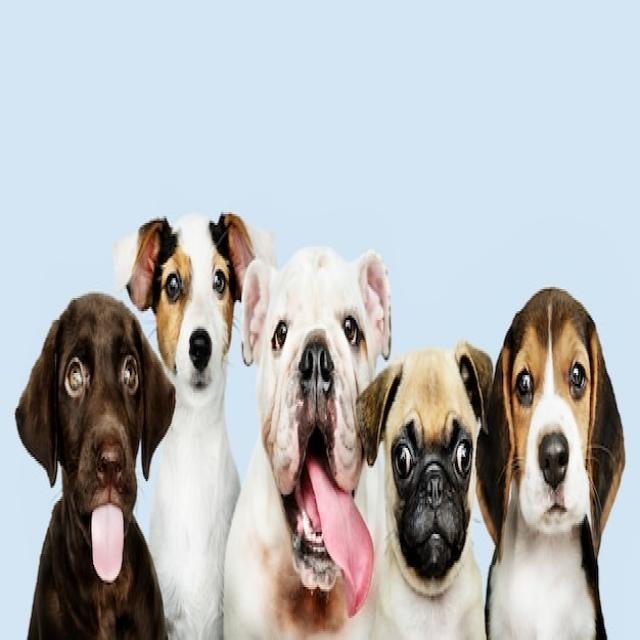Dog: (111, 208, 276, 640), (223, 251, 390, 640), (14, 289, 177, 640), (476, 283, 626, 640), (356, 345, 493, 640)
